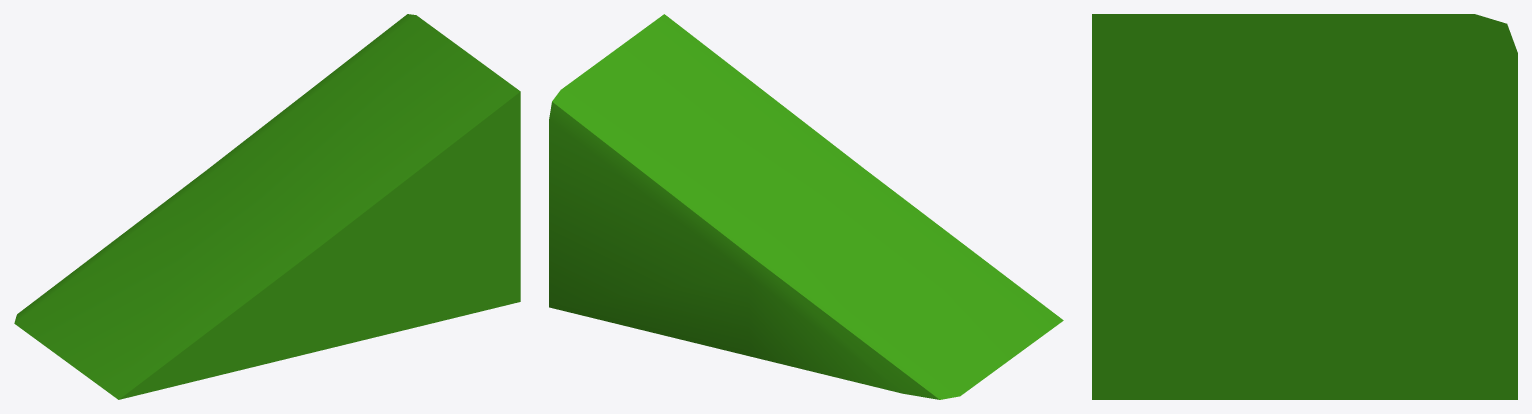
The model's file is TwoBlockSlopeLeft.fbx.
The picture shows the model from 3 angles, left to right: view 1: azimuth 30°, elevation 25°; view 2: azimuth 150°, elevation 25°; view 3: azimuth 270°, elevation 25°; orthographic projection. The views are drawn at different scales.
Visible parts, largest first — view 1: TwoBlockSlopeLeft; view 2: TwoBlockSlopeLeft; view 3: TwoBlockSlopeLeft.
Part boxes in pixels (x1=…): TwoBlockSlopeLeft: x1=14, y1=14, x2=520, y2=399; TwoBlockSlopeLeft: x1=549, y1=14, x2=1063, y2=399; TwoBlockSlopeLeft: x1=1092, y1=14, x2=1517, y2=399.
Size of the model in its own units: 79 by 39.5 by 39.5.
